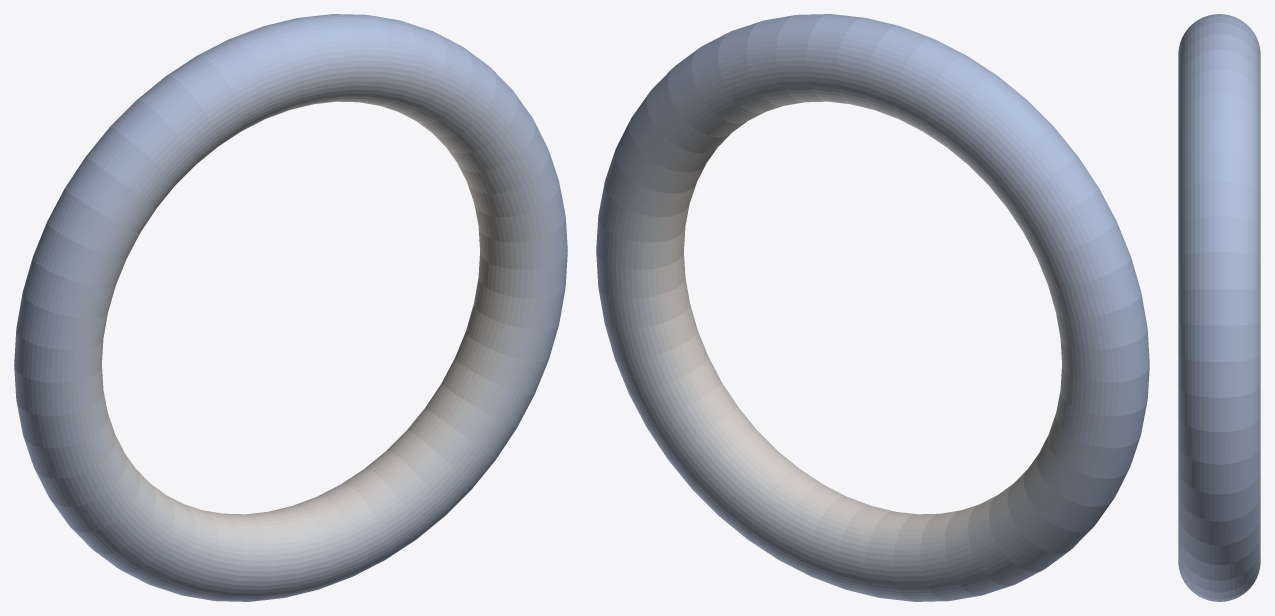
3 renders of one model, left to right at view 1: azimuth 30°, elevation 25°; view 2: azimuth 150°, elevation 25°; view 3: azimuth 270°, elevation 25°, orthographic. The views are drawn at different scales.
Parts seen in each view (by area): view 1: world; view 2: world; view 3: world.
Boxes of the visible parts, x1,y1,x2,y2 form: world: [14, 14, 567, 601]; world: [596, 14, 1149, 601]; world: [1178, 14, 1260, 601].
Size of the model in its own units: 29.47 by 29.41 by 4.13.
